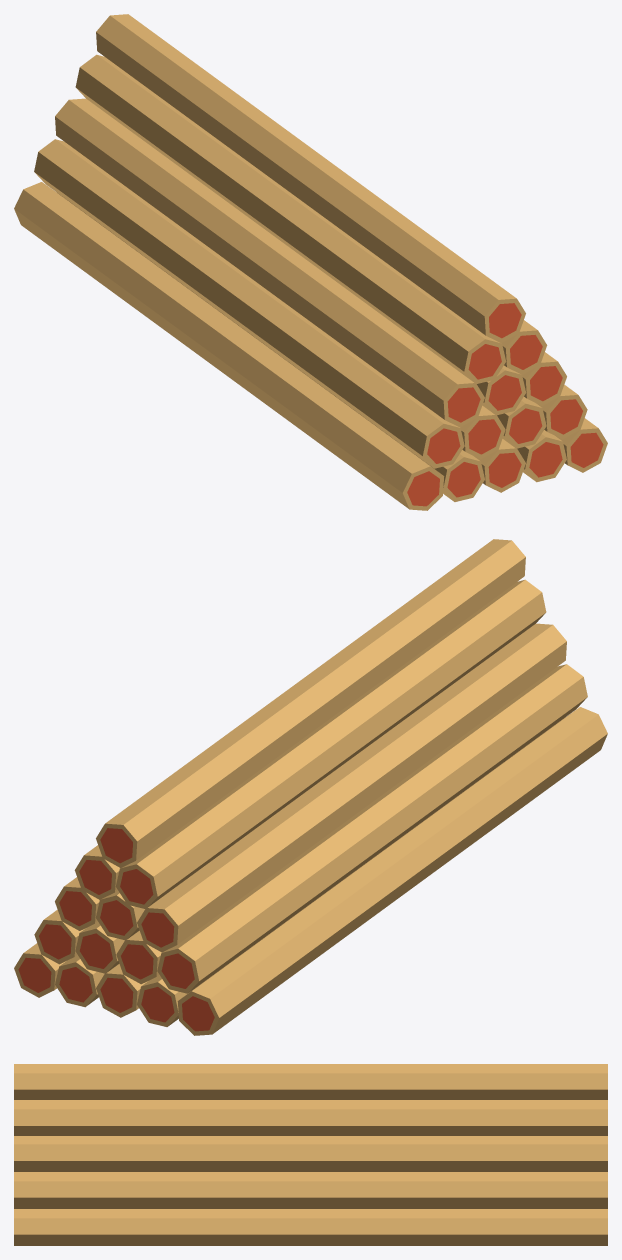
Rendered from Wood.fbx.
3 views of the same model, one above another, from view 1: azimuth 30°, elevation 25°; view 2: azimuth 150°, elevation 25°; view 3: azimuth 270°, elevation 25° (orthographic). The views are drawn at different scales.
Parts seen in each view (by area): view 1: Cylinder.010; view 2: Cylinder.010; view 3: Cylinder.010.
Boxes of the visible parts, x1,y1,x2,y2 form: Cylinder.010: (14, 14, 607, 510); Cylinder.010: (14, 539, 607, 1035); Cylinder.010: (14, 1064, 607, 1245).
Size of the model in its own units: 191 by 172 by 625.
